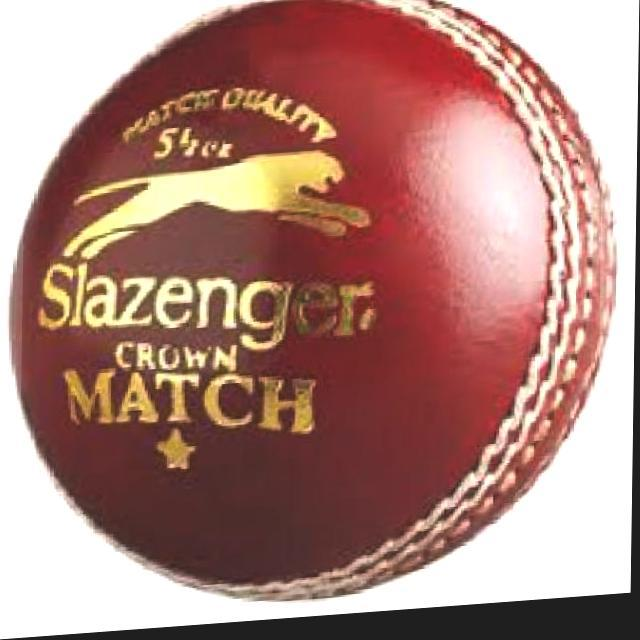-: (20, 0, 605, 603)
